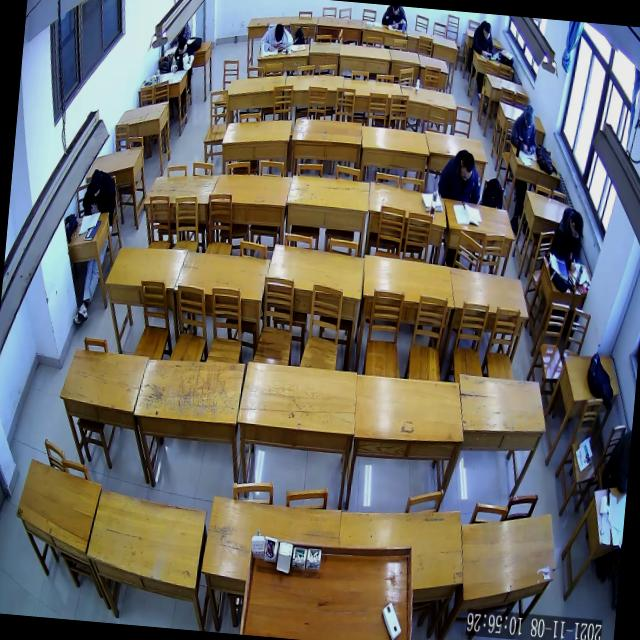bow: (258, 20, 296, 54), (380, 5, 410, 30)
down: (458, 150, 476, 184), (567, 210, 585, 242), (88, 166, 103, 198), (521, 102, 536, 132), (272, 22, 286, 44), (176, 35, 188, 56), (481, 20, 493, 41), (390, 5, 401, 18)
sit: (435, 144, 484, 206), (550, 206, 586, 274), (80, 166, 119, 219), (507, 100, 541, 156), (470, 18, 498, 61), (170, 34, 197, 76)
